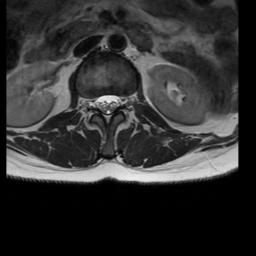CCS_normal: (102, 88, 111, 128)
LFS_normal: (119, 90, 128, 111)
LLS_normal: (111, 88, 119, 116)
RFS_normal: (85, 91, 94, 114)
RLS_normal: (94, 89, 103, 114)
